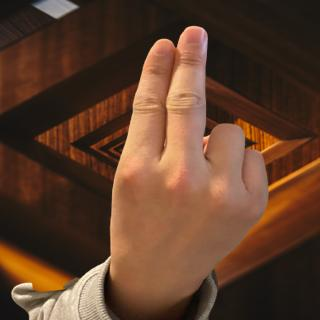DHAVE: (102, 17, 272, 303)
